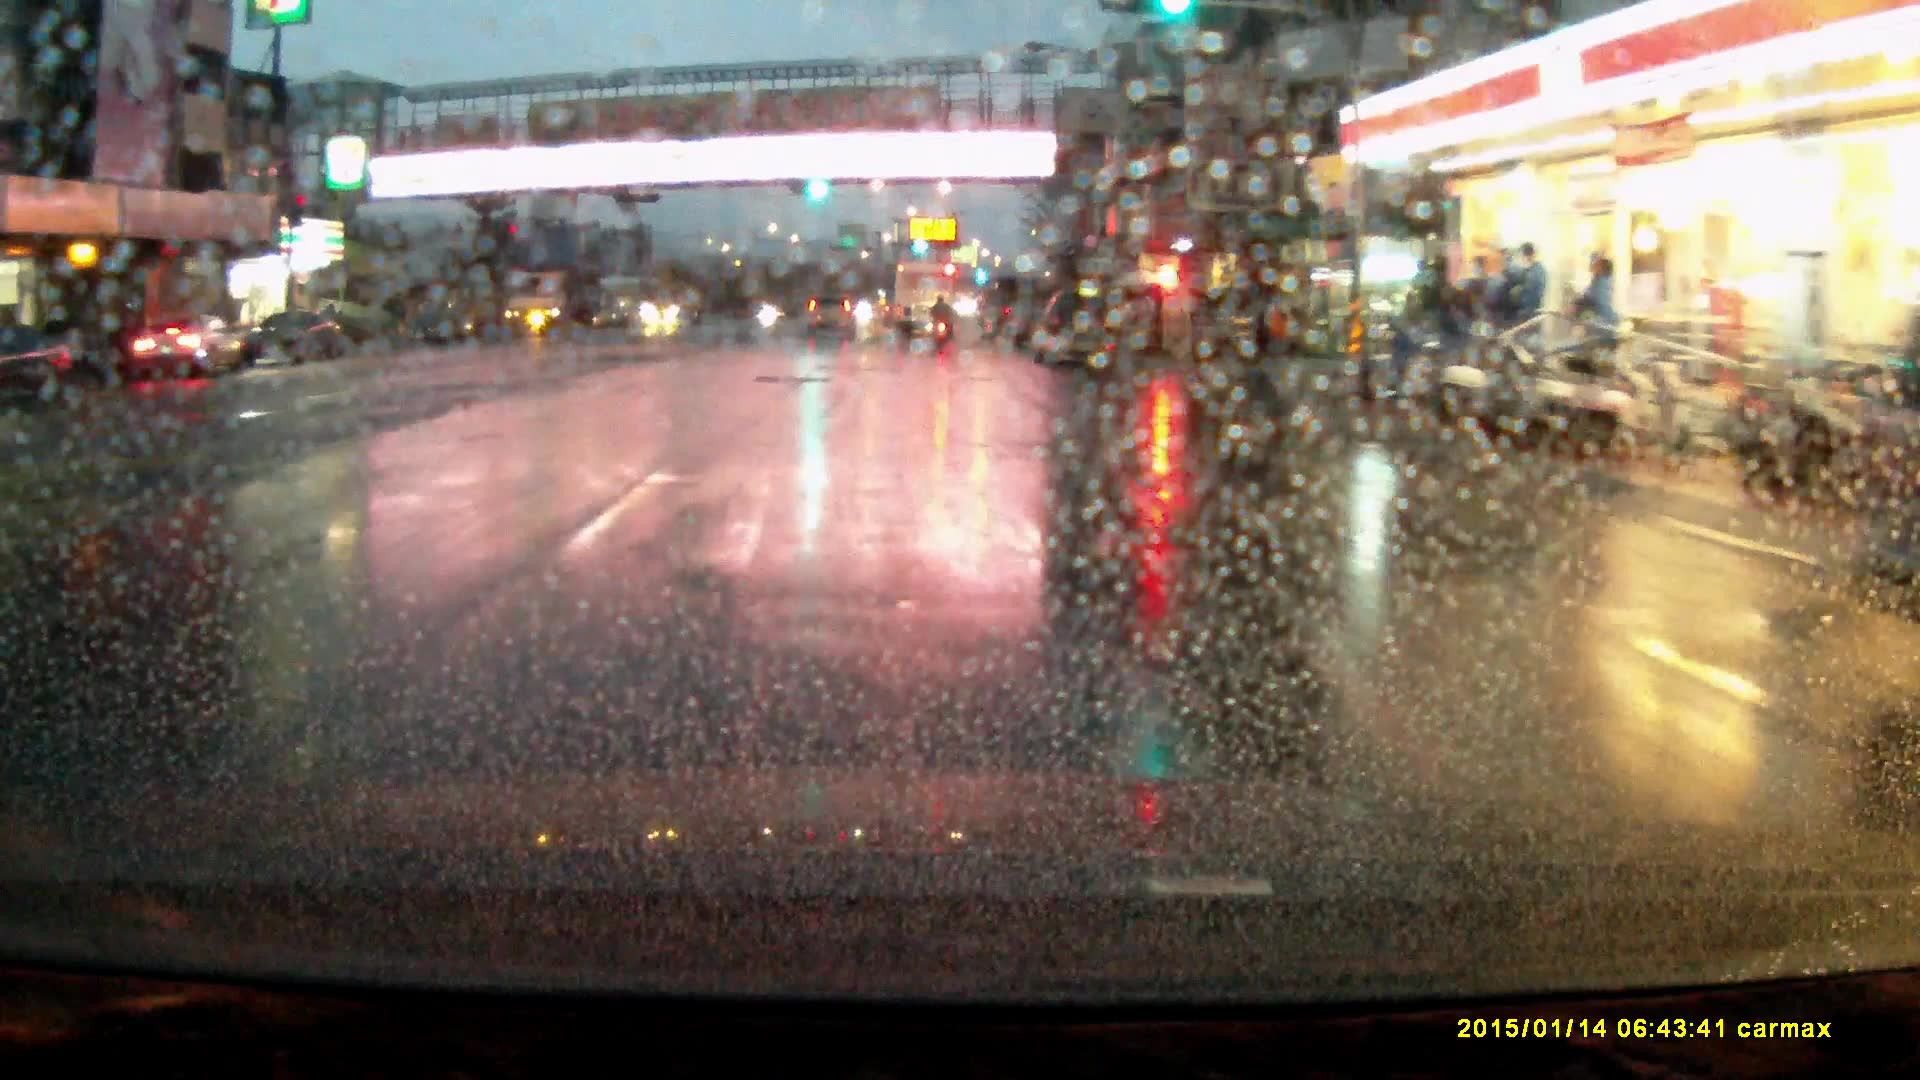rider: (931, 291, 957, 349)
vehicle: (504, 259, 603, 338), (131, 316, 242, 381), (1038, 290, 1118, 371), (244, 309, 353, 367), (1197, 294, 1282, 358), (895, 258, 955, 340), (646, 283, 708, 328), (806, 295, 860, 341)
